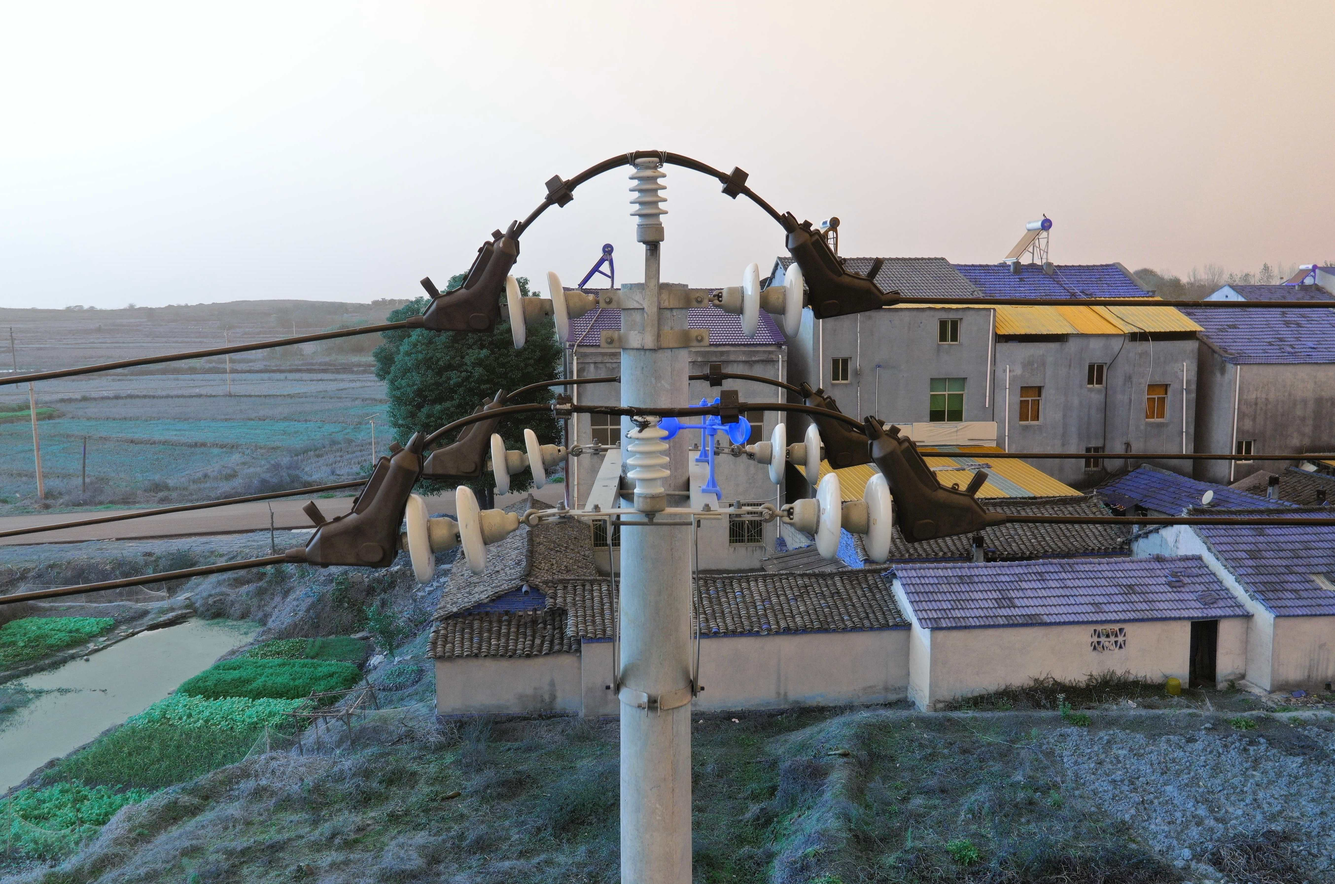severe_soiling_no_discharge_whole: (621, 411, 675, 512)
